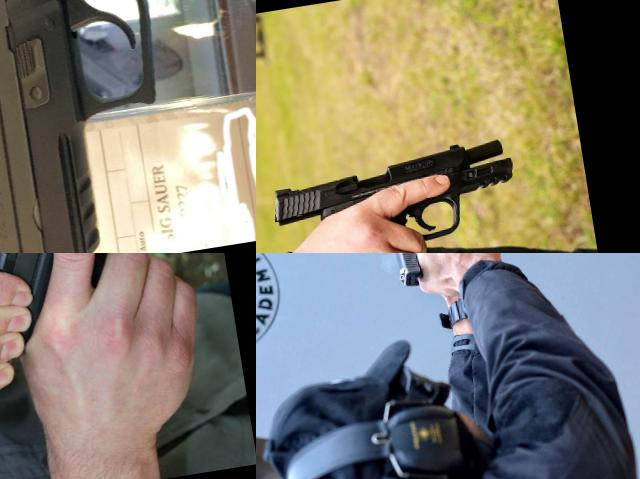handgun: (0, 0, 256, 253), (263, 130, 538, 253), (0, 253, 175, 401), (376, 253, 459, 308)
